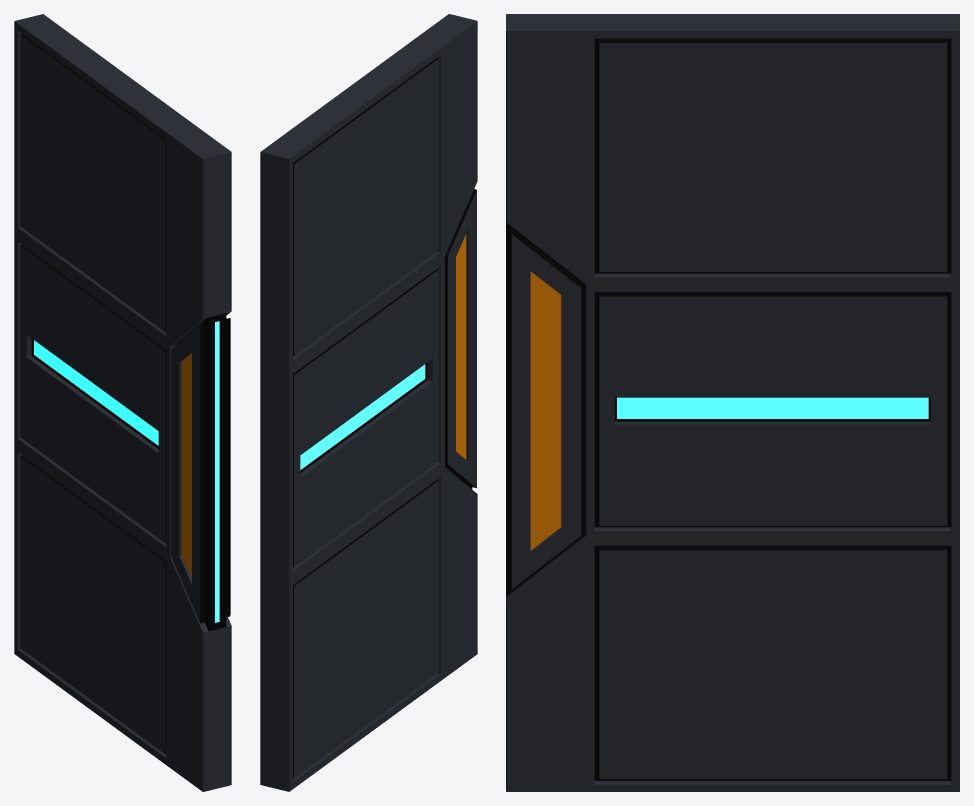
Rendered from SM_Door_Double_V2R.glb.
3 views of the same model, side by side, from view 1: azimuth 30°, elevation 25°; view 2: azimuth 150°, elevation 25°; view 3: azimuth 270°, elevation 25° (orthographic). The views are drawn at different scales.
Visible parts, largest first — view 1: SM_Door_Double_V2R; view 2: SM_Door_Double_V2R; view 3: SM_Door_Double_V2R.
Boxes of the visible parts, x1,y1,x2,y2 form: SM_Door_Double_V2R: (14,14,231,791); SM_Door_Double_V2R: (260,14,477,791); SM_Door_Double_V2R: (506,14,959,791).
Size of the model in its own units: 0.3746 by 7.4 by 4.
